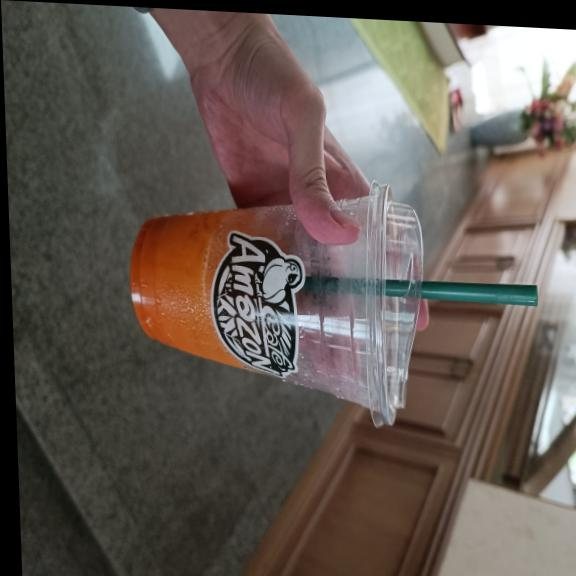Plastik: (130, 183, 536, 426)
